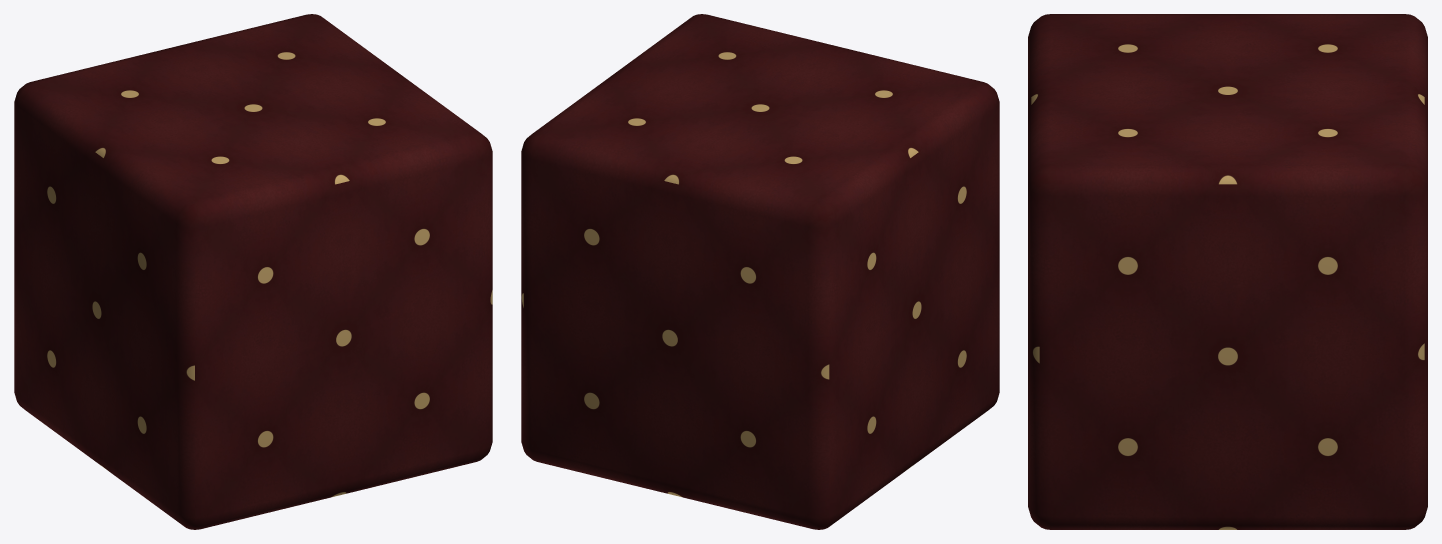
Rendered from cushion.glb.
3 renders of one model, left to right at view 1: azimuth 30°, elevation 25°; view 2: azimuth 150°, elevation 25°; view 3: azimuth 270°, elevation 25°, orthographic. The views are drawn at different scales.
Parts seen in each view (by area): view 1: ChamferBox001; view 2: ChamferBox001; view 3: ChamferBox001.
Boxes of the visible parts, x1,y1,x2,y2 form: ChamferBox001: [14, 14, 492, 529]; ChamferBox001: [521, 14, 999, 529]; ChamferBox001: [1028, 14, 1427, 529].
Bounding box in the file's own units: 2.3 × 2.3 × 2.3.
Materials: 1 (1 with a texture image).
